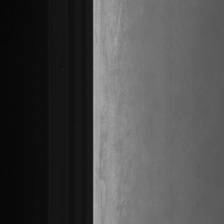silk_spot: (109, 3, 135, 172)
